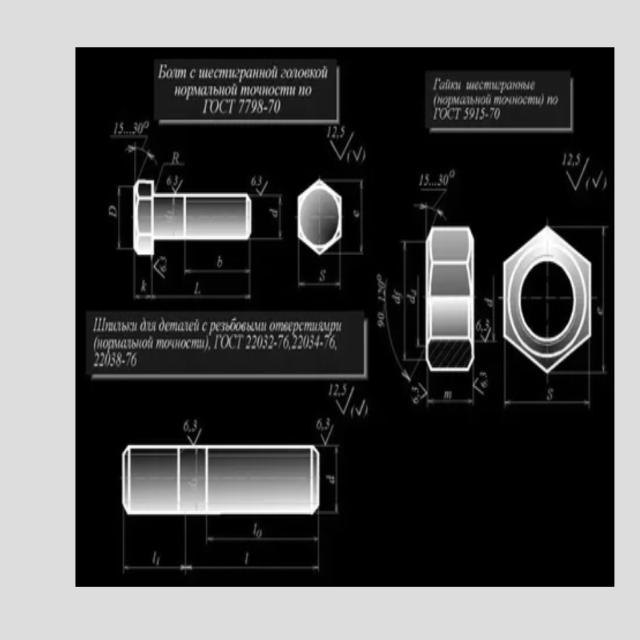special_symbol: (123, 145, 155, 178), (334, 393, 355, 417), (564, 169, 584, 191), (331, 141, 348, 165), (187, 428, 205, 445), (319, 425, 335, 444), (352, 398, 365, 419), (591, 169, 602, 189), (473, 379, 484, 398), (417, 379, 426, 401), (171, 183, 182, 197), (353, 146, 362, 161), (480, 330, 490, 343), (155, 259, 161, 278)
